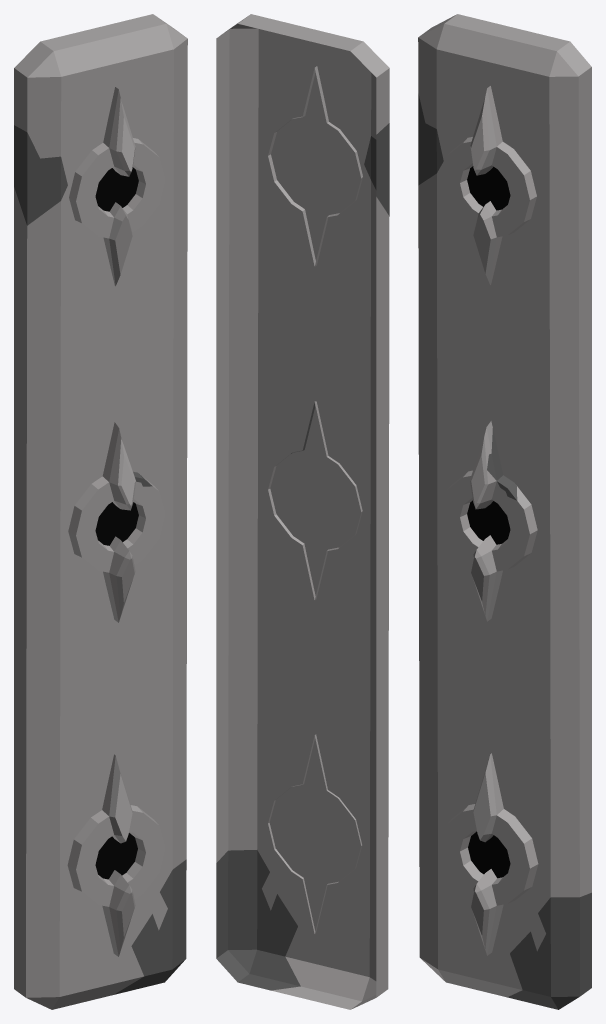
Rendered from SMLProjectileMetalTrap.fbx.
The picture shows the model from 3 angles, left to right: view 1: azimuth 30°, elevation 25°; view 2: azimuth 150°, elevation 25°; view 3: azimuth 330°, elevation 25°; orthographic projection.
Parts seen in each view (by area): view 1: SMLProjectileMetalTrap; view 2: SMLProjectileMetalTrap; view 3: SMLProjectileMetalTrap.
Boxes of the visible parts, box(x1,y1,x2,y2) form: SMLProjectileMetalTrap: box(14, 14, 187, 1009); SMLProjectileMetalTrap: box(216, 14, 389, 1009); SMLProjectileMetalTrap: box(418, 14, 591, 1009).
Bounding box in the file's own units: 15.07 × 86.17 × 6.
